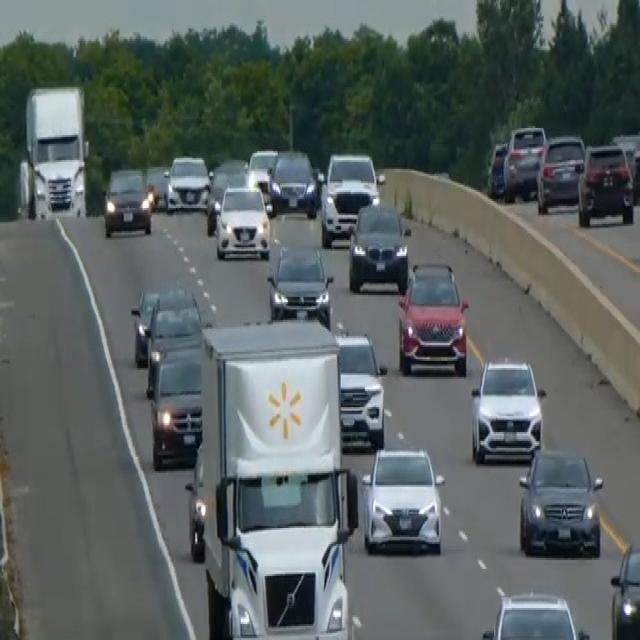car: (517, 444, 603, 558), (359, 444, 445, 554), (396, 260, 469, 375), (469, 354, 544, 464), (146, 343, 203, 469), (334, 329, 386, 448), (347, 199, 410, 293), (320, 150, 380, 246), (267, 242, 333, 327), (480, 588, 591, 638), (577, 140, 634, 228), (144, 286, 202, 366), (214, 182, 271, 260), (535, 132, 585, 214), (102, 166, 152, 237), (502, 123, 547, 201), (269, 147, 318, 217), (205, 156, 248, 234), (609, 540, 639, 638), (164, 153, 210, 211), (130, 284, 160, 364), (247, 146, 278, 212), (611, 132, 639, 202), (486, 139, 509, 199), (145, 163, 170, 210), (632, 133, 639, 204)
lorry: (185, 316, 360, 638), (18, 80, 90, 220)
